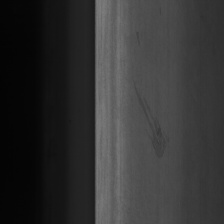water_spot: (130, 73, 174, 166), (133, 27, 141, 47), (157, 6, 164, 18)
